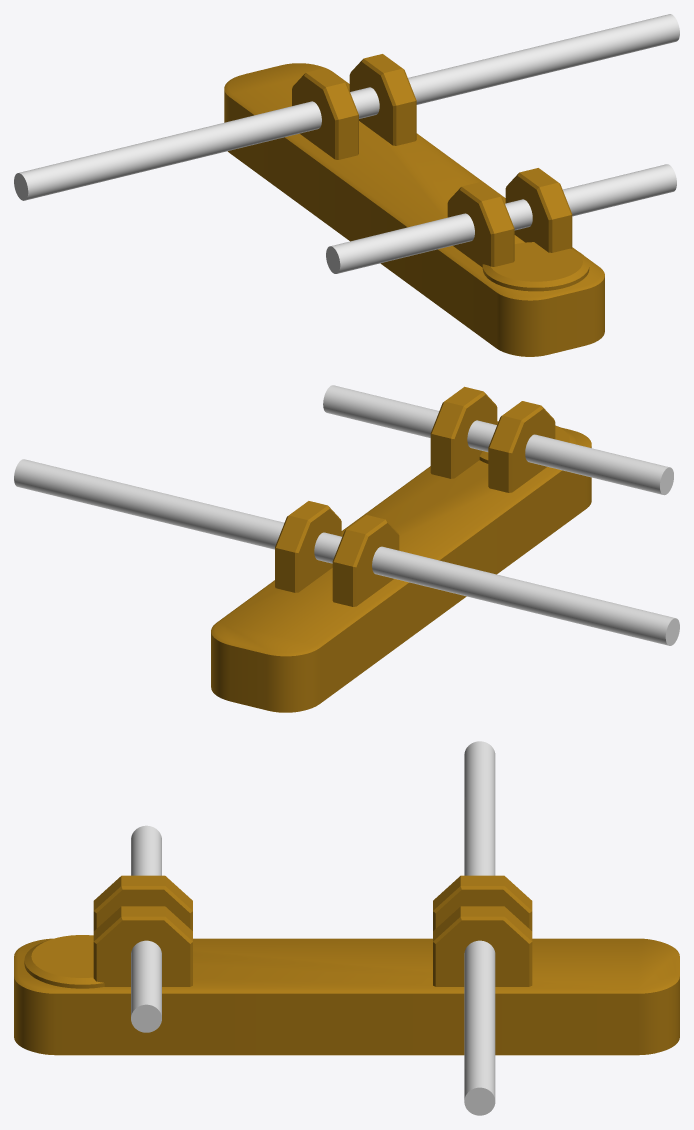
File: Frame_Arm.fbx
3 views of the same model, one above another, from view 1: azimuth 30°, elevation 25°; view 2: azimuth 150°, elevation 25°; view 3: azimuth 270°, elevation 25° (orthographic). The views are drawn at different scales.
Parts seen in each view (by area): view 1: Frame_Arm; view 2: Frame_Arm; view 3: Frame_Arm.
Boxes of the visible parts, x1,y1,x2,y2 form: Frame_Arm: (14, 14, 679, 356); Frame_Arm: (14, 385, 679, 712); Frame_Arm: (14, 741, 679, 1115).
Size of the model in its own units: 1.28 by 0.2318 by 1.04.
